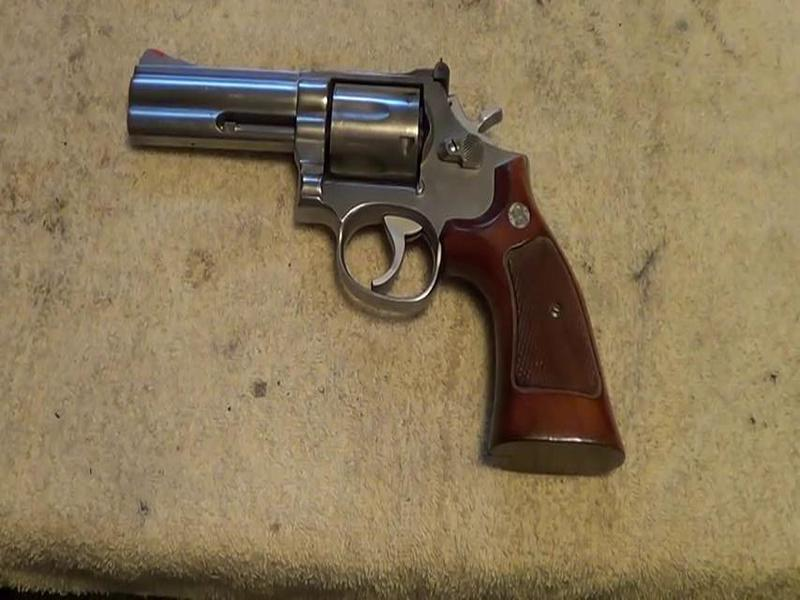Revolver: (127, 17, 598, 489)
